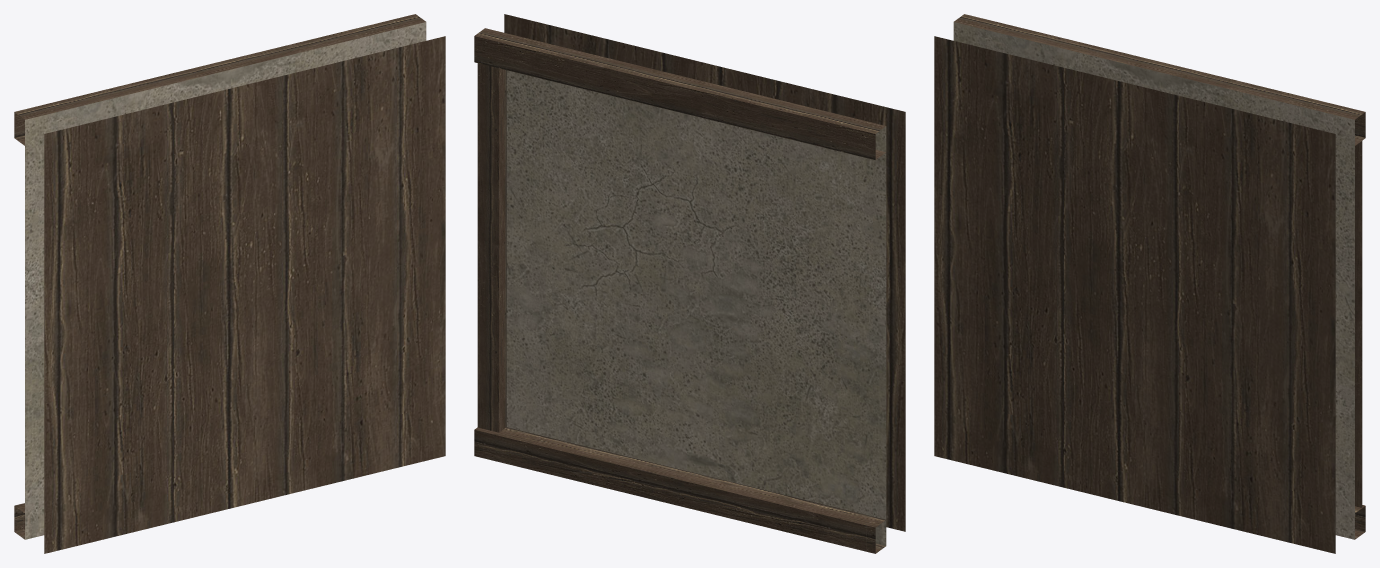
Rendered from ARC1010245.fbx.
3 views of the same model, side by side, from view 1: azimuth 30°, elevation 25°; view 2: azimuth 150°, elevation 25°; view 3: azimuth 330°, elevation 25° (orthographic).
Visible parts, largest first — view 1: smARC1010245; view 2: smARC1010245; view 3: smARC1010245.
Part boxes in pixels (<box>): smARC1010245: <box>14,14,445,553</box>; smARC1010245: <box>474,14,905,553</box>; smARC1010245: <box>934,14,1365,553</box>.
Size of the model in its own units: 268 by 268 by 34.9.
Materials: 1 (1 with a texture image).
